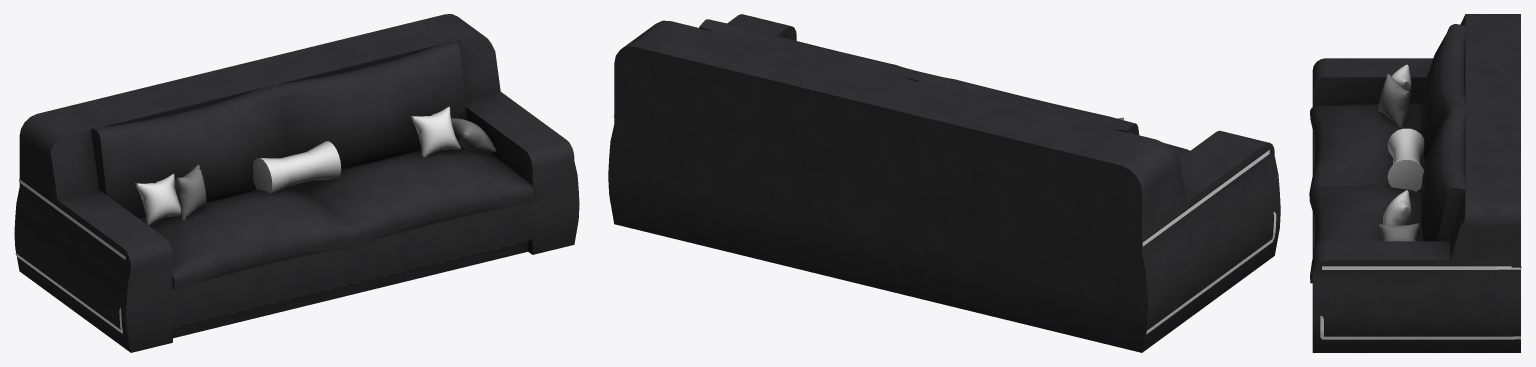
File: sofa-v1.glb
The picture shows the model from 3 angles, left to right: view 1: azimuth 30°, elevation 25°; view 2: azimuth 150°, elevation 25°; view 3: azimuth 270°, elevation 25°; orthographic projection. The views are drawn at different scales.
Visible parts, largest first — view 1: sofa_model, sofa_led_cyan; view 2: sofa_model, sofa_led_cyan; view 3: sofa_model, sofa_led_cyan.
Boxes of the visible parts, box(x1,y1,x2,y2) form: sofa_model: box(14, 14, 579, 352); sofa_led_cyan: box(15, 179, 125, 333); sofa_model: box(608, 14, 1280, 352); sofa_led_cyan: box(609, 114, 1273, 334); sofa_model: box(1309, 14, 1520, 352); sofa_led_cyan: box(1321, 266, 1521, 339).
Size of the model in its own units: 3.31 by 1.09 by 1.43.
4 materials, 2 textured.
